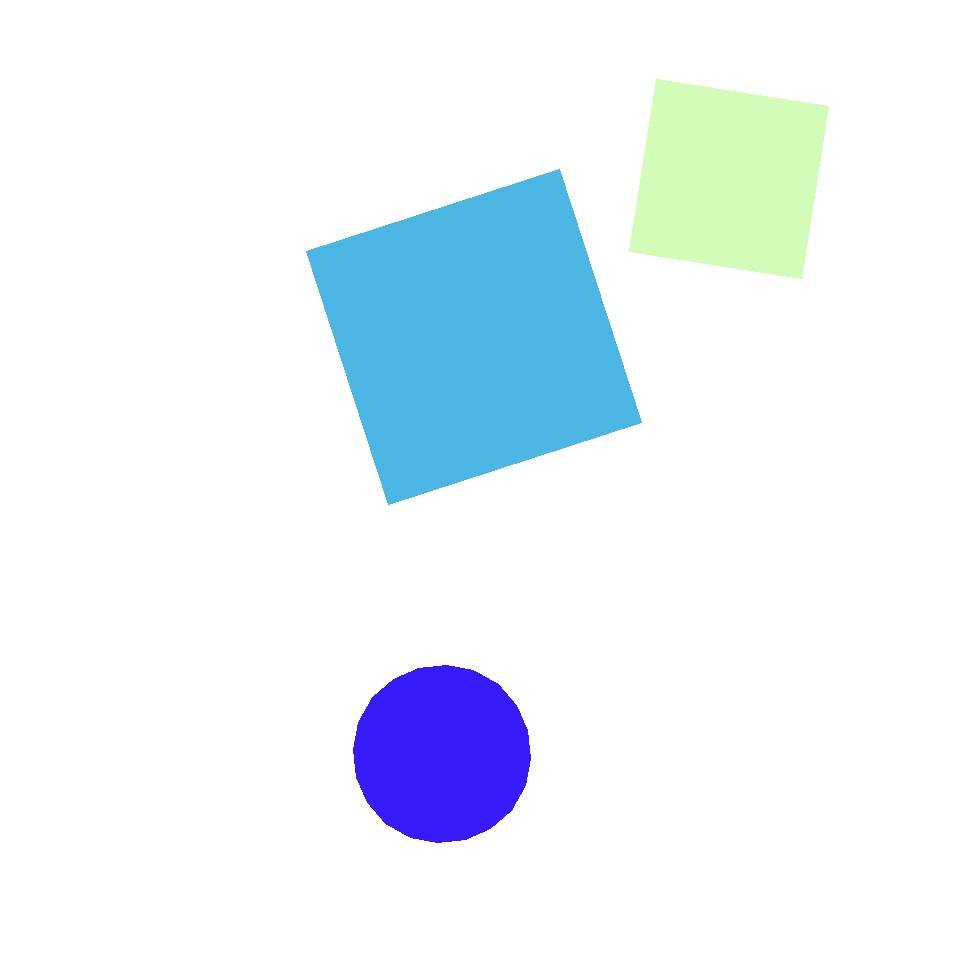circle: (98, 315, 414, 635), (92, 213, 388, 481)
square: (307, 169, 642, 504), (29, 407, 347, 726), (233, 618, 508, 894), (630, 80, 828, 278)
triangle: (353, 666, 530, 842), (756, 668, 884, 798)
